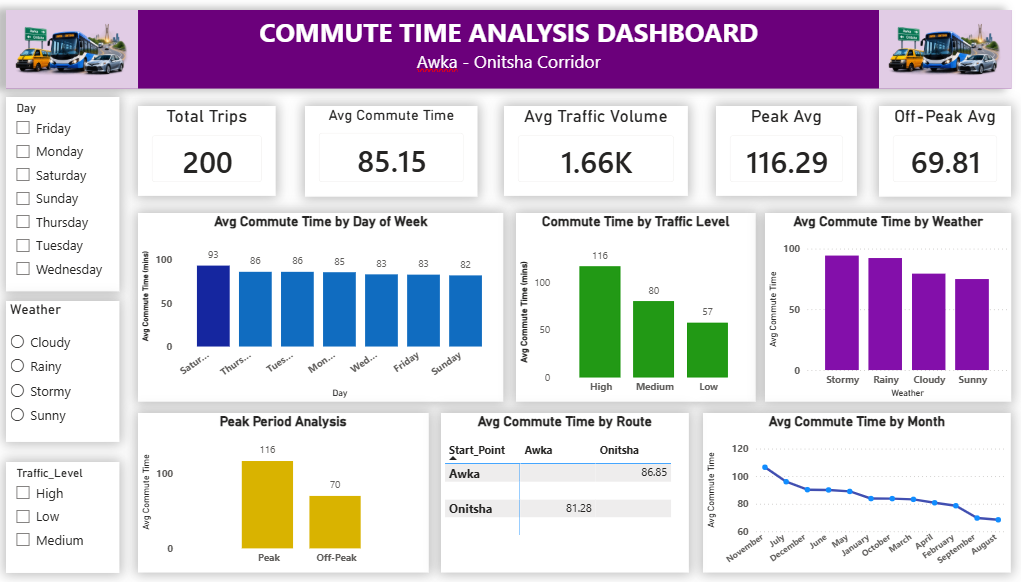

What the dashboard file says about the page in this screenshot:
{"tool":"powerbi","page":{"name":"Dashboard","canvas":[1280,720],"ordinal":0},"visuals":[{"type":"textbox","box":[15.7,12.9,1241.4,97.1],"z":0},{"type":"cardVisual","title":"Total Trips","fields":{"Data":["Clean Data.Total Trip"]},"box":[178.6,131.4,170,111.4],"z":1000},{"type":"cardVisual","title":"Avg Commute Time","fields":{"Data":["Clean Data.Avg Commute Time"]},"box":[385.7,131.4,213.3,111.7],"z":2000},{"type":"cardVisual","title":"Avg Traffic Volume","fields":{"Data":["Avg(Clean Data.Traffic_Volume)"]},"box":[631.4,131.4,227.1,111.4],"z":3000},{"type":"cardVisual","title":"Peak Avg","fields":{"Data":["Clean Data.Peak Avg"]},"box":[892.9,131.4,174.3,111.4],"z":4000},{"type":"cardVisual","title":"Off-Peak Avg","fields":{"Data":["Clean Data.OffPeak Avg"]},"box":[1094.3,131.4,163.3,111.7],"z":5000},{"type":"columnChart","title":"Avg Commute Time by Day of Week","fields":{"Category":["Clean Data.Day"],"Y":["Clean Data.Avg Commute Time"]},"box":[178.6,262.9,451.4,232.9],"z":6000},{"type":"columnChart","title":"Commute Time by Traffic Level","fields":{"Category":["Clean Data.Traffic_Level"],"Y":["Clean Data.Avg Commute Time"]},"box":[645.7,262.9,295.7,232.9],"z":7000},{"type":"columnChart","title":"Peak Period Analysis","fields":{"Category":["Clean Data.Peak_Period"],"Y":["Clean Data.Avg Commute Time"]},"box":[178.6,510,358.6,197.1],"z":8000},{"type":"columnChart","fields":{"Category":["Clean Data.Weather"],"Y":["Clean Data.Avg Commute Time"]},"box":[952.9,262.9,304.3,232.9],"z":9000},{"type":"lineChart","fields":{"Category":["Clean Data.Month"],"Y":["Clean Data.Avg Commute Time"]},"box":[877.1,510,380,197.1],"z":10000},{"type":"slicer","fields":{"Values":["Clean Data.Day"]},"box":[15.7,120,140,240],"z":11000},{"type":"listSlicer","fields":{"Values":["Clean Data.Weather"]},"box":[15.7,371.4,140,174.3],"z":12000},{"type":"slicer","fields":{"Values":["Clean Data.Traffic_Level"]},"box":[15.7,570,140,137.1],"z":13000},{"type":"pivotTable","title":"Avg Commute Time by Route","fields":{"Rows":["Clean Data.Start_Point"],"Columns":["Clean Data.Destination"],"Values":["Clean Data.Avg Commute Time"]},"box":[552.9,510,305.7,197.1],"z":14000},{"type":"image","box":[15.7,12.9,162.9,97.1],"z":15000},{"type":"image","box":[1093.8,12.3,162.9,97.1],"z":16000}]}

Visuals, with their boxes in screenshot pixels (x1, y1, x2, y2), scaled from the page's 1280x720 canvas onto the 1021x582 screenshot:
textbox: {"x1": 13, "y1": 10, "x2": 1003, "y2": 89}
"Total Trips" cardVisual: {"x1": 142, "y1": 106, "x2": 278, "y2": 196}
"Avg Commute Time" cardVisual: {"x1": 308, "y1": 106, "x2": 478, "y2": 197}
"Avg Traffic Volume" cardVisual: {"x1": 504, "y1": 106, "x2": 685, "y2": 196}
"Peak Avg" cardVisual: {"x1": 712, "y1": 106, "x2": 851, "y2": 196}
"Off-Peak Avg" cardVisual: {"x1": 873, "y1": 106, "x2": 1003, "y2": 197}
"Avg Commute Time by Day of Week" columnChart: {"x1": 142, "y1": 213, "x2": 503, "y2": 401}
"Commute Time by Traffic Level" columnChart: {"x1": 515, "y1": 213, "x2": 751, "y2": 401}
"Peak Period Analysis" columnChart: {"x1": 142, "y1": 412, "x2": 429, "y2": 572}
columnChart - Clean Data.Weather x Clean Data.Avg Commute Time: {"x1": 760, "y1": 213, "x2": 1003, "y2": 401}
lineChart - Clean Data.Month x Clean Data.Avg Commute Time: {"x1": 700, "y1": 412, "x2": 1003, "y2": 572}
slicer - Clean Data.Day: {"x1": 13, "y1": 97, "x2": 124, "y2": 291}
listSlicer - Clean Data.Weather: {"x1": 13, "y1": 300, "x2": 124, "y2": 441}
slicer - Clean Data.Traffic_Level: {"x1": 13, "y1": 461, "x2": 124, "y2": 572}
"Avg Commute Time by Route" pivotTable: {"x1": 441, "y1": 412, "x2": 685, "y2": 572}
image: {"x1": 13, "y1": 10, "x2": 142, "y2": 89}
image: {"x1": 872, "y1": 10, "x2": 1002, "y2": 88}
